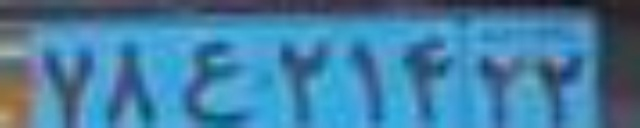1: (348, 37, 388, 123)
2: (275, 37, 331, 124), (533, 53, 585, 126), (475, 52, 525, 126)
4: (399, 37, 455, 119)
7: (41, 42, 94, 126)
8: (103, 40, 159, 126)
ain: (177, 41, 253, 122)
